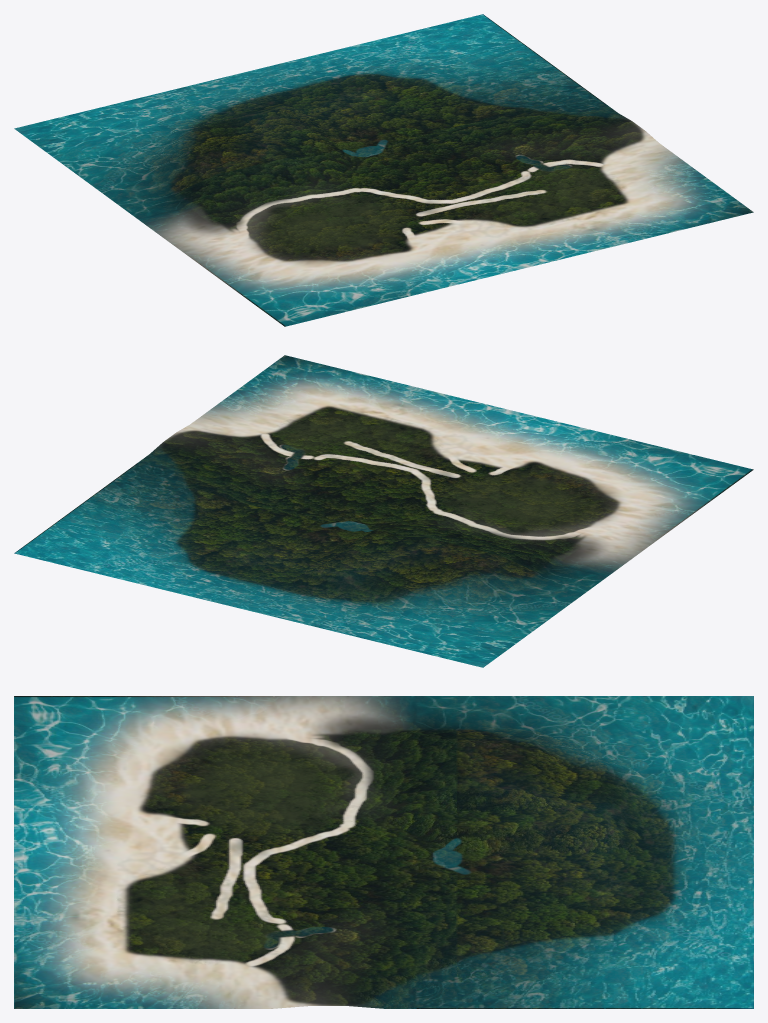
Rendered from mapa.obj.
The picture shows the model from 3 angles, top to bottom: view 1: azimuth 30°, elevation 25°; view 2: azimuth 150°, elevation 25°; view 3: azimuth 270°, elevation 25°; orthographic projection. The views are drawn at different scales.
Visible parts, largest first — view 1: mapa:pPlane1; view 2: mapa:pPlane1; view 3: mapa:pPlane1.
Part boxes in pixels (x1,y1,x2,y2): mapa:pPlane1: [14, 14, 753, 326]; mapa:pPlane1: [14, 355, 753, 667]; mapa:pPlane1: [14, 696, 753, 1008].
Bounding box in the file's own units: 5000 × 108 × 5000.
1 material, 1 textured.
